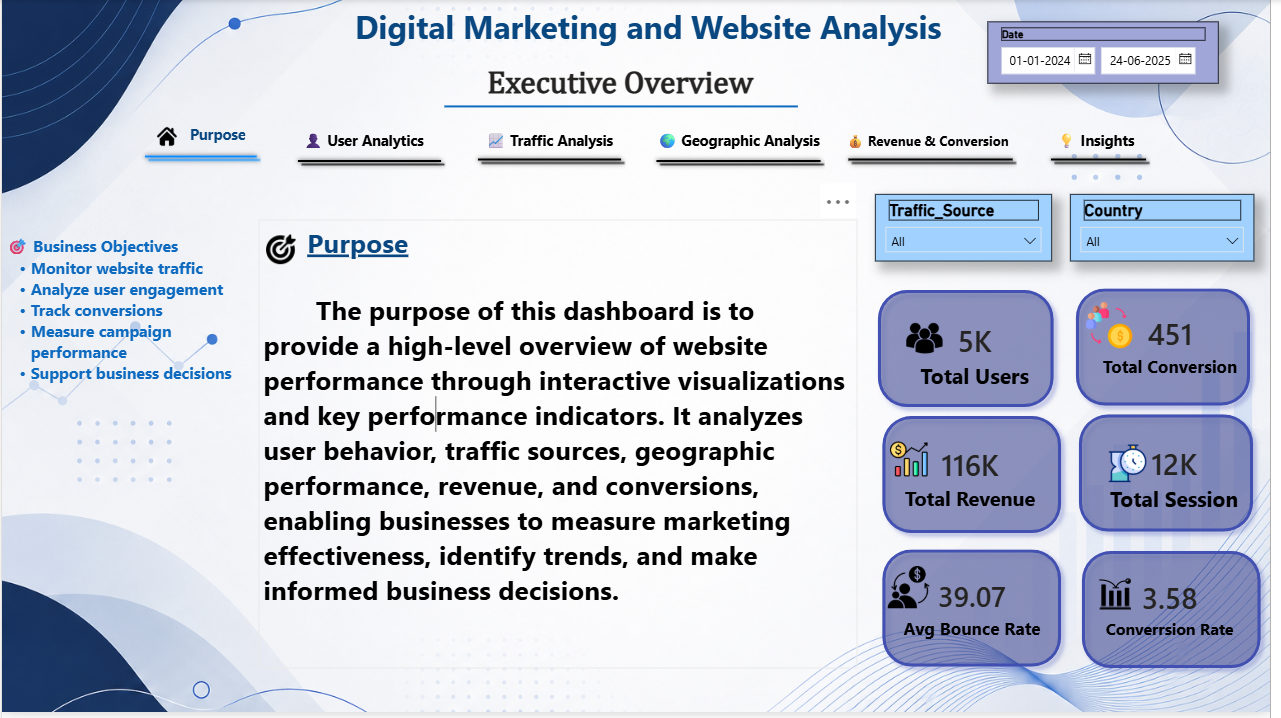

This screenshot's page, from the dashboard's own definition file:
{"tool":"powerbi","page":{"name":"Executive Overview","canvas":[1280,720],"ordinal":0},"visuals":[{"type":"shape","box":[875.2,284.7,195.3,136.3],"z":0},{"type":"textbox","box":[424.4,62.2,356.9,60.8],"z":1000},{"type":"shape","box":[447.4,47.3,356.9,123],"z":2000},{"type":"textbox","box":[258.2,223,605.6,452.8],"z":3000},{"type":"actionButton","box":[119.6,110.5,130.2,51.5],"z":4000},{"type":"actionButton","box":[281.6,122.7,166.6,39.4],"z":5000},{"type":"actionButton","box":[475.5,122.7,154.4,39.4],"z":6000},{"type":"actionButton","box":[843.4,122.7,181.7,39.4],"z":7000},{"type":"actionButton","box":[655.7,122.7,175.6,39.4],"z":8000},{"type":"actionButton","box":[1053.9,122.7,99.9,39.4],"z":9000},{"type":"shape","box":[139.3,148.4,122.7,21.2],"z":10000},{"type":"image","box":[143.8,128.7,45.4,19.7],"z":11000},{"type":"shape","box":[293.8,151.4,154.4,24.2],"z":12000},{"type":"shape","box":[475.5,149.9,154.4,24.2],"z":13000},{"type":"shape","box":[655.7,151.4,175.6,24.2],"z":14000},{"type":"shape","box":[849.5,149.9,175.6,24.2],"z":15000},{"type":"shape","box":[1053.9,148.4,106,27.3],"z":16000},{"type":"cardVisual","fields":{"Data":["Digital_Marketing_Data.Total Users"]},"box":[885.8,305.9,192.3,107.5],"z":17000},{"type":"shape","box":[1078.1,410.3,193.8,136.3],"z":18000},{"type":"shape","box":[879.8,411.9,198.4,136.3],"z":19000},{"type":"shape","box":[1075.1,283.2,193.8,136.3],"z":20000},{"type":"image","box":[905.5,324,51.5,36.3],"z":21000},{"type":"cardVisual","fields":{"Data":["Digital_Marketing_Data.total conversionnn"]},"box":[1079.6,298.3,199.9,104.5],"z":22000},{"type":"image","box":[1093.3,449.7,86.3,37.9],"z":23000},{"type":"cardVisual","fields":{"Data":["Sum(Digital_Marketing_Data.Revenue_USD)"]},"box":[863.1,430,228.6,107.5],"z":24000},{"type":"cardVisual","fields":{"Data":["Digital_Marketing_Data.total session"]},"box":[1087.2,430,192.3,107.5],"z":25000},{"type":"image","box":[896.4,440.6,37.9,46.9],"z":26000},{"type":"image","box":[1079.6,305.9,75.7,46.9],"z":27000},{"type":"slicer","fields":{"Values":["Digital_Marketing_Data.Date"]},"box":[994.4,22.2,233.3,62.5],"z":28000},{"type":"slicer","fields":{"Values":["Digital_Marketing_Data.Country"]},"box":[1078.1,196.8,186.2,68.1],"z":29000},{"type":"slicer","fields":{"Values":["Digital_Marketing_Data.Traffic_Source"]},"box":[881.3,196.8,178.7,68.1],"z":30000},{"type":"shape","box":[879.8,546.6,198.4,136.3],"z":31000},{"type":"cardVisual","fields":{"Data":["Digital_Marketing_Data.AVg Bounce Rate"]},"box":[878.2,561.8,202.9,107.5],"z":32000},{"type":"shape","box":[1081.1,548.1,198.4,136.3],"z":33000},{"type":"image","box":[891.9,572.4,46.9,42.4],"z":34000},{"type":"image","box":[1106.9,584.5,33.3,31.8],"z":35000},{"type":"textbox","box":[0,233.2,249.8,186.2],"z":36000},{"type":"cardVisual","fields":{"Data":["Digital_Marketing_Data.Avg Converrsion Rate"]},"box":[1082.7,561.8,192.3,107.5],"z":37000},{"type":"textbox","box":[351.4,0,606.9,59.5],"z":38000},{"type":"image","box":[266.3,231.1,29.7,41.9],"z":38001}]}

Visuals, with their boxes in screenshot pixels (x1, y1, x2, y2), scaled from the page's 1280x720 canvas onto the 1281x718 screenshot:
shape: left=876, top=284, right=1071, bottom=420
textbox: left=425, top=62, right=782, bottom=123
shape: left=448, top=47, right=805, bottom=170
textbox: left=258, top=222, right=864, bottom=674
actionButton: left=120, top=110, right=250, bottom=162
actionButton: left=282, top=122, right=449, bottom=162
actionButton: left=476, top=122, right=630, bottom=162
actionButton: left=844, top=122, right=1026, bottom=162
actionButton: left=656, top=122, right=832, bottom=162
actionButton: left=1055, top=122, right=1155, bottom=162
shape: left=139, top=148, right=262, bottom=169
image: left=144, top=128, right=189, bottom=148
shape: left=294, top=151, right=449, bottom=175
shape: left=476, top=149, right=630, bottom=174
shape: left=656, top=151, right=832, bottom=175
shape: left=850, top=149, right=1026, bottom=174
shape: left=1055, top=148, right=1161, bottom=175
cardVisual - Digital_Marketing_Data.Total Users: left=886, top=305, right=1079, bottom=412
shape: left=1079, top=409, right=1273, bottom=545
shape: left=880, top=411, right=1079, bottom=547
shape: left=1076, top=282, right=1270, bottom=418
image: left=906, top=323, right=958, bottom=359
cardVisual - Digital_Marketing_Data.total conversionnn: left=1080, top=297, right=1280, bottom=402
image: left=1094, top=448, right=1181, bottom=486
cardVisual - Sum(Digital_Marketing_Data.Revenue_USD): left=864, top=429, right=1093, bottom=536
cardVisual - Digital_Marketing_Data.total session: left=1088, top=429, right=1280, bottom=536
image: left=897, top=439, right=935, bottom=486
image: left=1080, top=305, right=1156, bottom=352
slicer - Digital_Marketing_Data.Date: left=995, top=22, right=1229, bottom=84
slicer - Digital_Marketing_Data.Country: left=1079, top=196, right=1265, bottom=264
slicer - Digital_Marketing_Data.Traffic_Source: left=882, top=196, right=1061, bottom=264
shape: left=880, top=545, right=1079, bottom=681
cardVisual - Digital_Marketing_Data.AVg Bounce Rate: left=879, top=560, right=1082, bottom=667
shape: left=1082, top=547, right=1280, bottom=682
image: left=893, top=571, right=940, bottom=613
image: left=1108, top=583, right=1141, bottom=615
textbox: left=0, top=233, right=250, bottom=418
cardVisual - Digital_Marketing_Data.Avg Converrsion Rate: left=1084, top=560, right=1276, bottom=667
textbox: left=352, top=0, right=959, bottom=59
image: left=267, top=230, right=296, bottom=272
